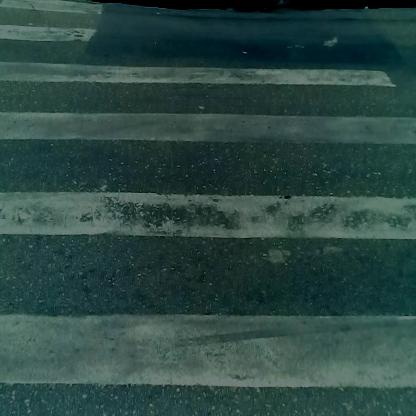crosswalk: (46, 33, 396, 413)
